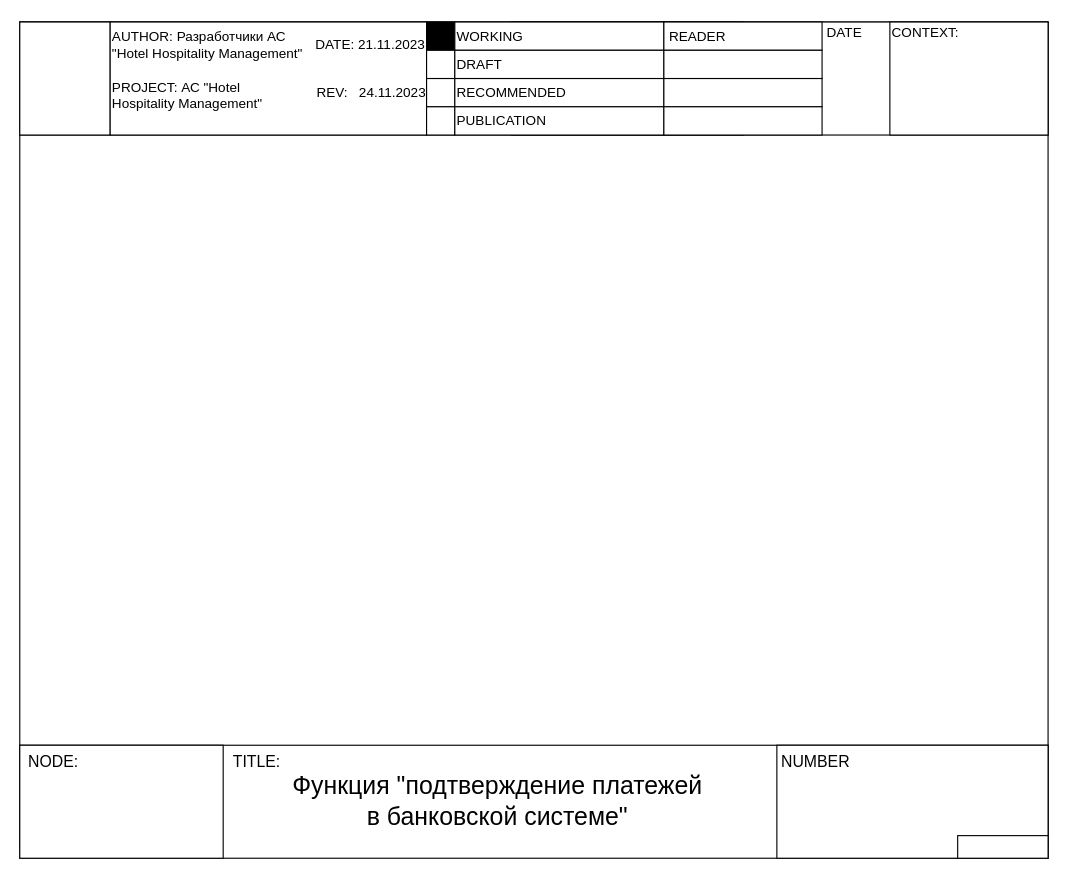
Image size: 1068x878. Some labels were removed from this diagram. Here are the shapes that lost their labels. From the top down, the box of each, then its label:
(19, 21, 110, 135): USED AT:
(889, 21, 1048, 135): A0
(19, 744, 223, 858): А23
